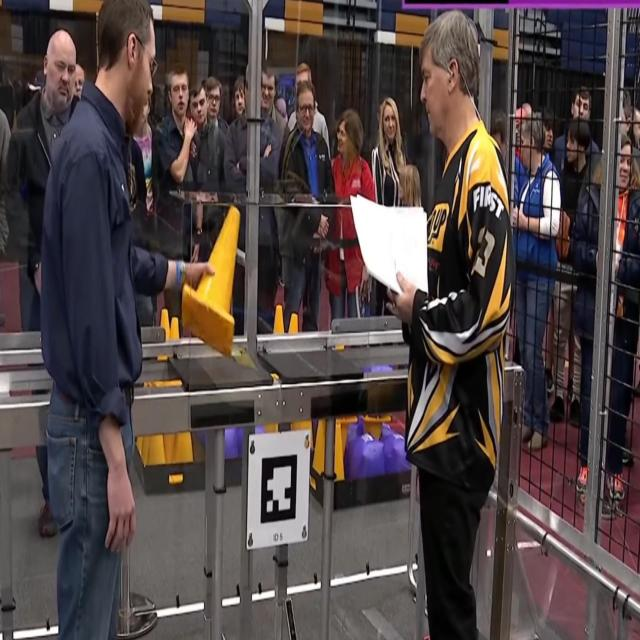frc_cone: (181, 206, 238, 356), (330, 423, 346, 480), (146, 431, 166, 466), (175, 429, 195, 464), (312, 421, 325, 471), (362, 417, 390, 436), (270, 302, 286, 334), (163, 430, 176, 464), (139, 434, 151, 464), (161, 309, 171, 340), (289, 309, 300, 334), (170, 315, 179, 341)
frc_cube: (348, 432, 384, 474), (382, 432, 412, 470)
